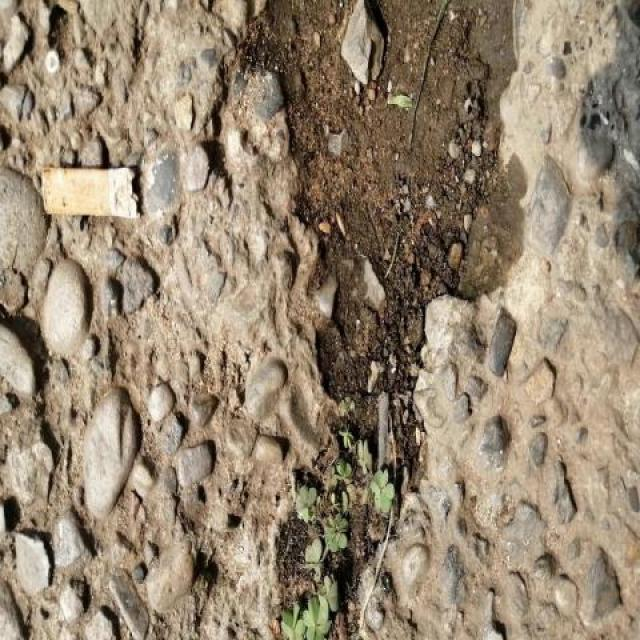non-organic waste: (39, 160, 146, 223)
